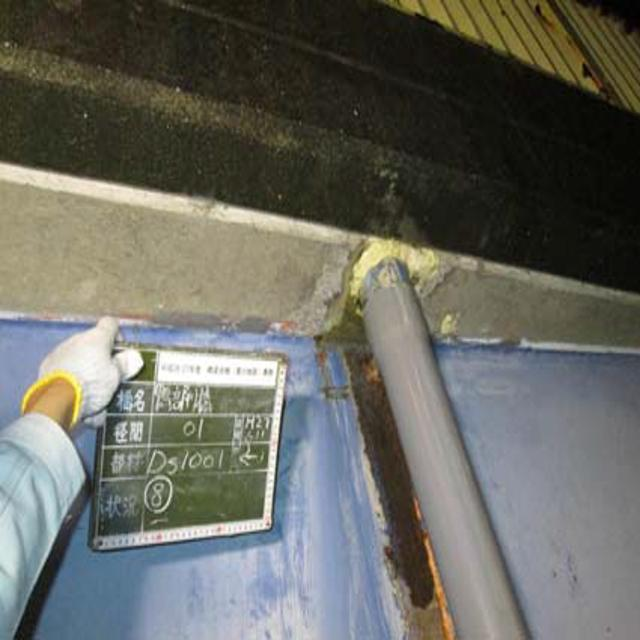freelime: (341, 223, 443, 307)
leakage: (337, 347, 446, 617)
